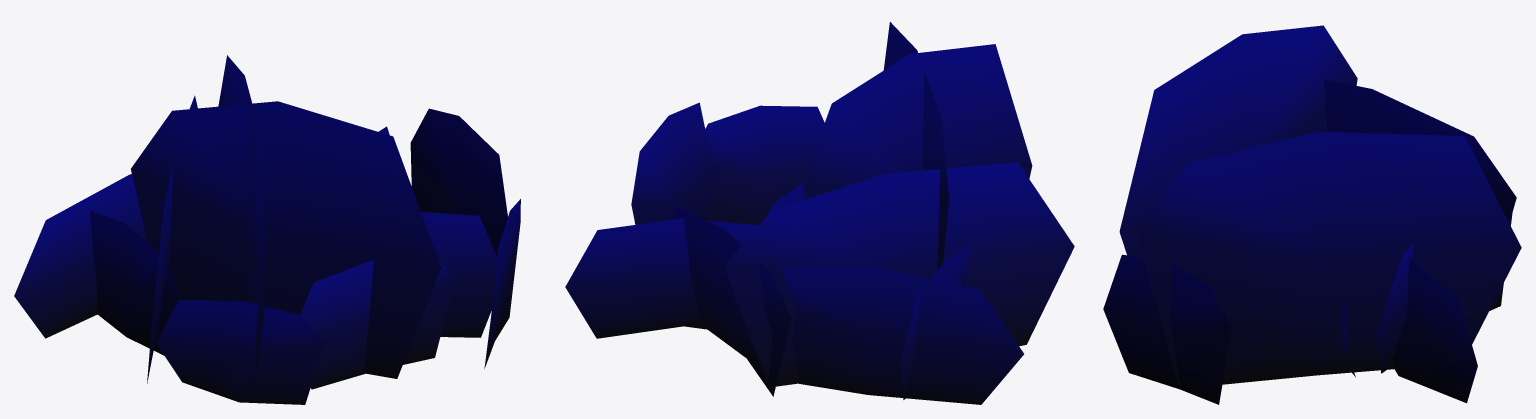
The model's file is SM_Grass_S_Patch_Md_02.fbx.
The picture shows the model from 3 angles, left to right: view 1: azimuth 30°, elevation 25°; view 2: azimuth 150°, elevation 25°; view 3: azimuth 270°, elevation 25°; orthographic projection.
Visible parts, largest first — view 1: SM_Grass_S_Patch_Md_02; view 2: SM_Grass_S_Patch_Md_02; view 3: SM_Grass_S_Patch_Md_02.
Boxes of the visible parts, x1,y1,x2,y2 form: SM_Grass_S_Patch_Md_02: [14, 55, 520, 404]; SM_Grass_S_Patch_Md_02: [565, 22, 1074, 404]; SM_Grass_S_Patch_Md_02: [1103, 25, 1521, 404].
Bounding box in the file's own units: 91.48 × 77.42 × 56.99.
